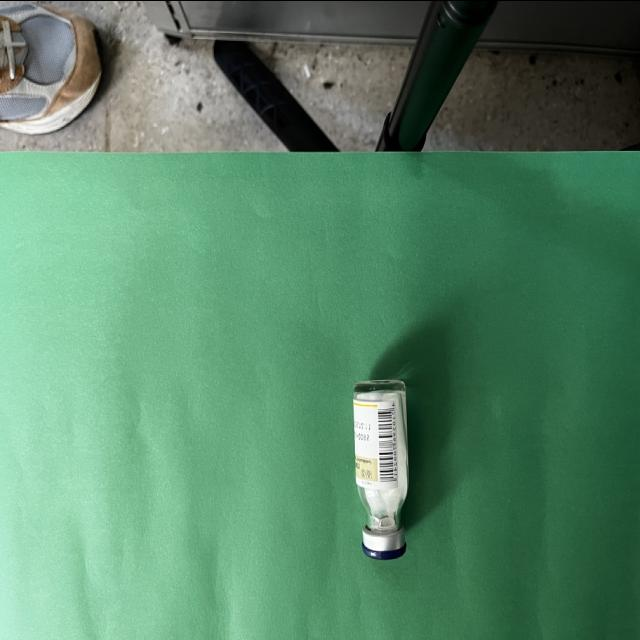Vials: (354, 379, 408, 561)
